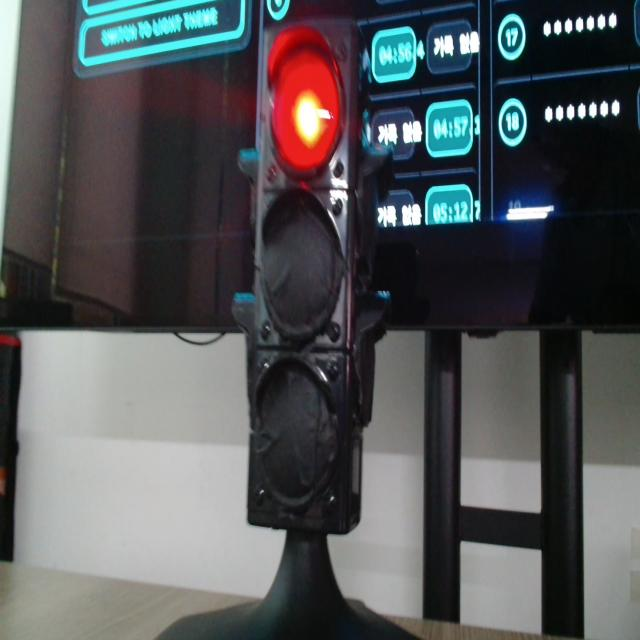red_light: (269, 28, 340, 173)
